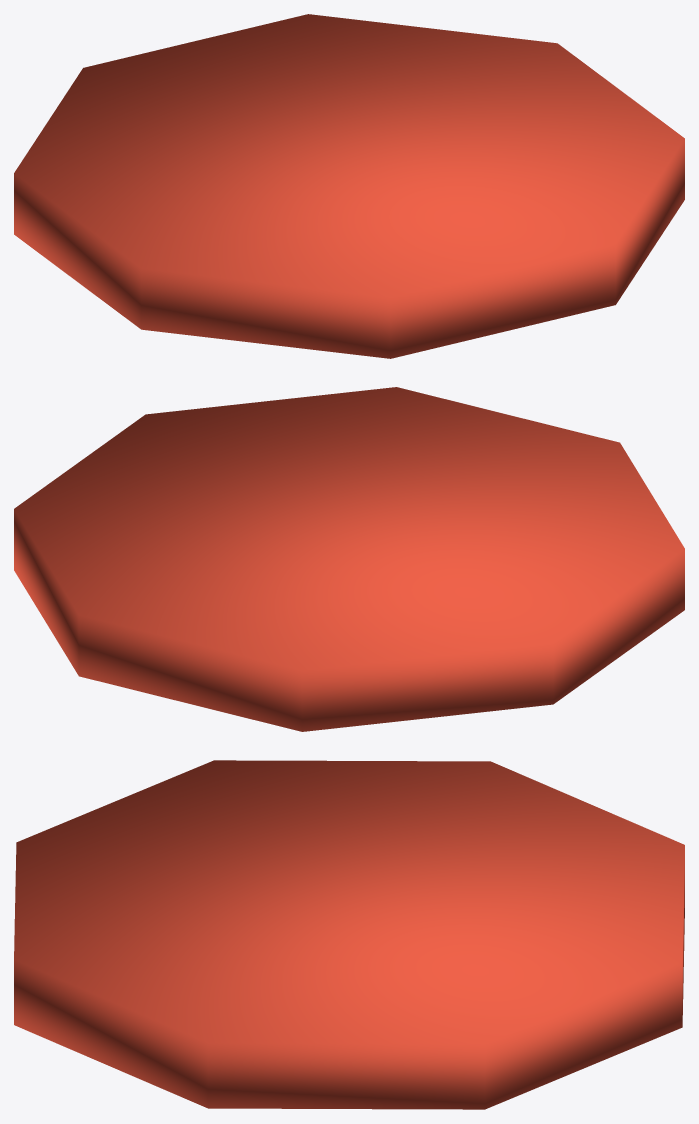
Rendered from sausage-slice-big.glb.
3 views of the same model, one above another, from view 1: azimuth 30°, elevation 25°; view 2: azimuth 150°, elevation 25°; view 3: azimuth 270°, elevation 25° (orthographic). The views are drawn at different scales.
Parts seen in each view (by area): view 1: SausageSliceBig.001; view 2: SausageSliceBig.001; view 3: SausageSliceBig.001.
Boxes of the visible parts, <box> form: SausageSliceBig.001: <box>14,14,684,358</box>; SausageSliceBig.001: <box>14,387,684,731</box>; SausageSliceBig.001: <box>14,760,684,1109</box>.
Bounding box in the file's own units: 0.0927 × 0.01 × 0.0927.
Materials: 1 (1 with a texture image).
